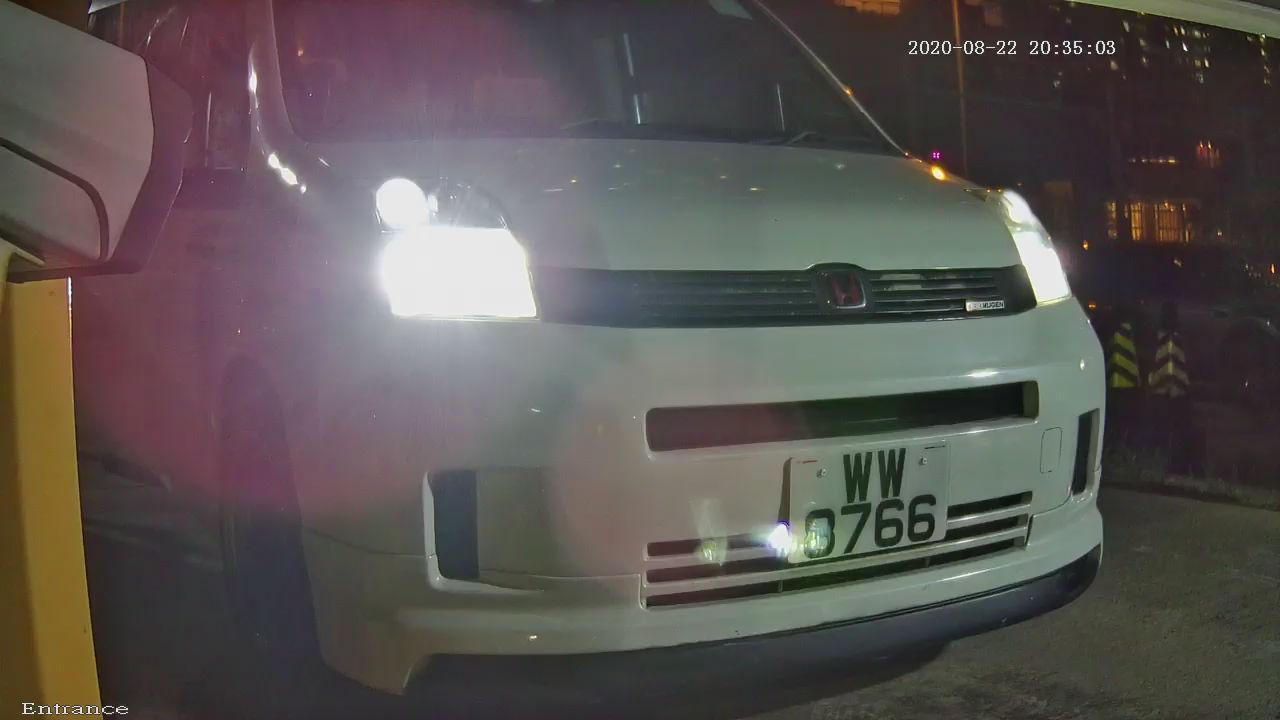Car: (46, 1, 1212, 720)
License Plate: (749, 431, 983, 582)
